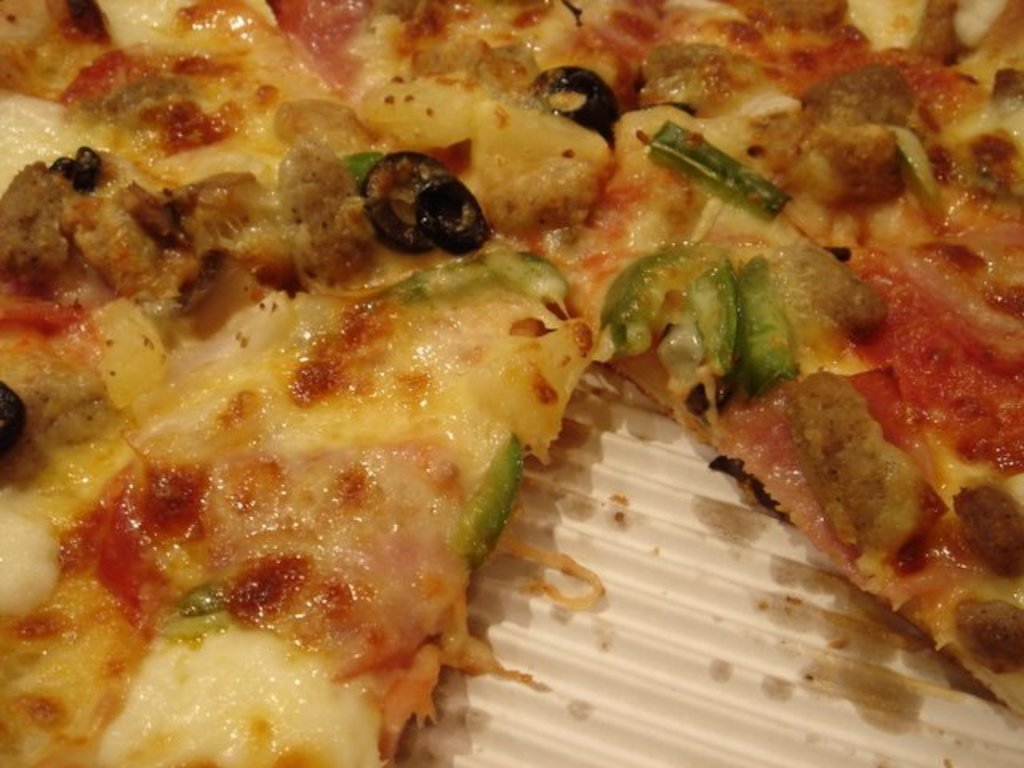Pizza: (0, 0, 1024, 756)
